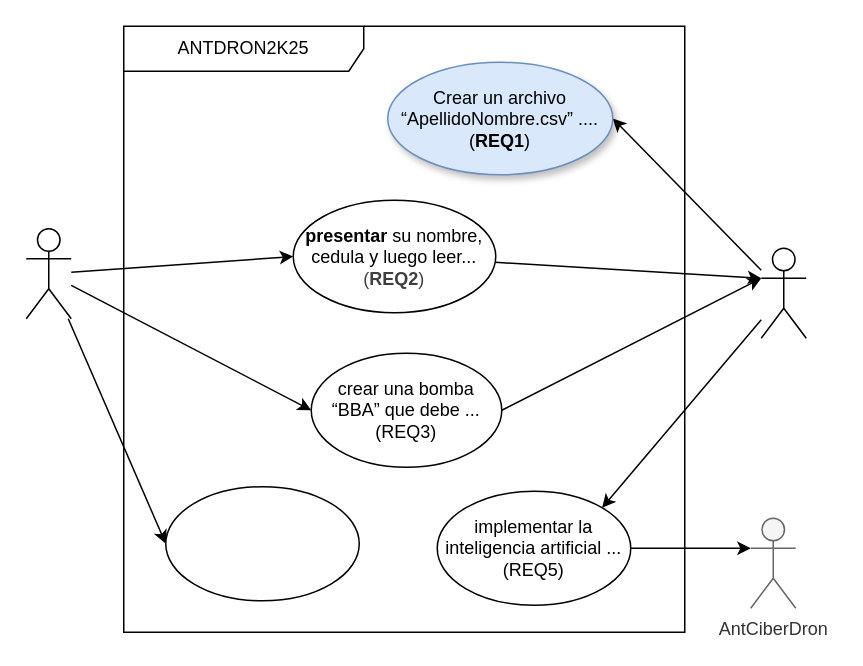
Some shapes in this 863 by 666 pixel diagram are drawn without their labels. Each missing label, with the centre of its shape:
"crear un tipo de hormiga que derive de ... (REQ4)" belongs at [261,543].
"KGD" belongs at [48,273].
"SistemaRuso" belongs at [783,292].
